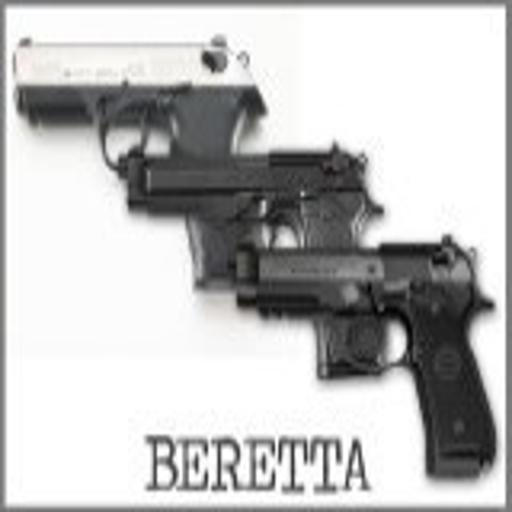Handgun: (8, 33, 258, 293), (114, 144, 383, 383), (232, 237, 495, 481)
